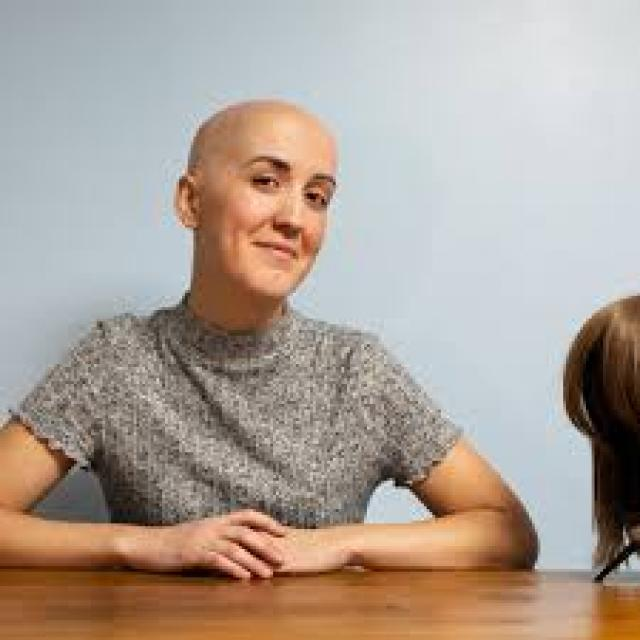bald: (174, 94, 343, 218)
